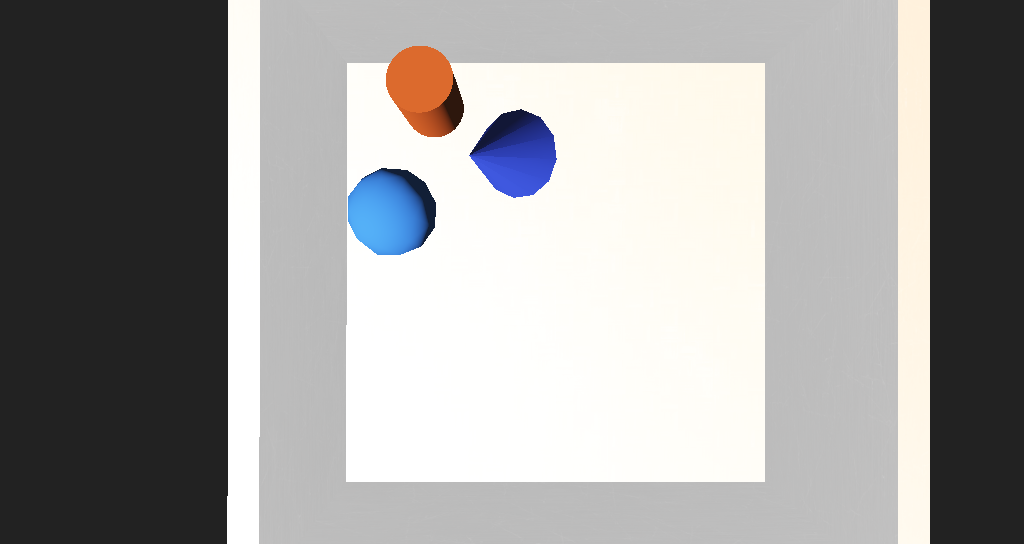cone: (384, 160, 438, 203)
cylinder: (408, 172, 509, 239)
sphere: (360, 217, 421, 260)
